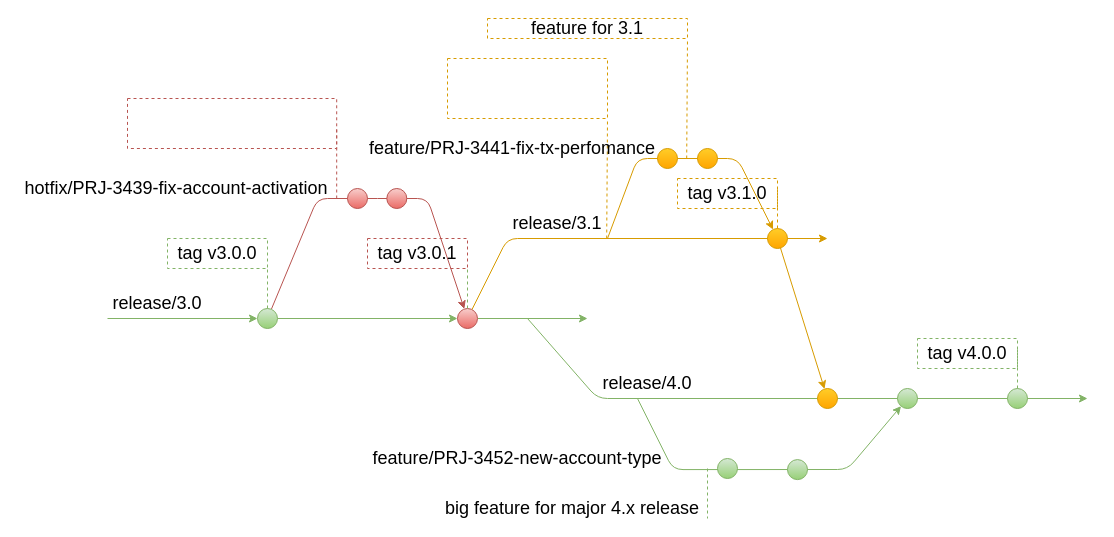
The diagram is 1114 pixels wide and 537 high, and some of its shapes have lost their labels. The centre of each missing label's shape, as x and y in pixels:
"fix of small blocker bug that was found in v3.0.0" goes at (x=231, y=123).
"minor release with fixes or tweaks" goes at (x=527, y=88).
